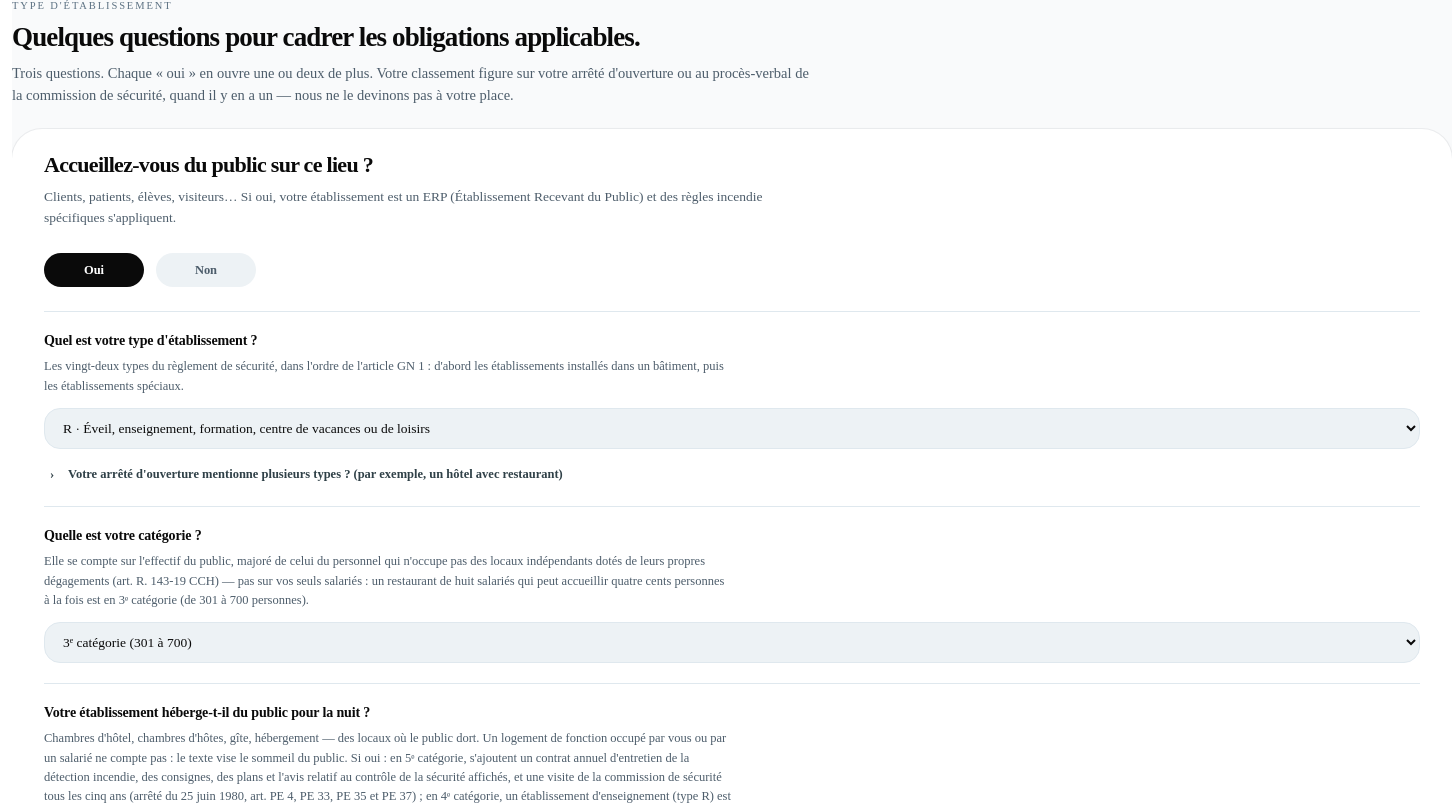
Test: accueil : la question de l'accueil d'enfants › elle disparaît, et sa réponse avec, quand R quitte la saisie
Select "N · Restaurant, débit de boissons" in the dropdown with id "typeErp": (732, 429) [44,408,1420,449]
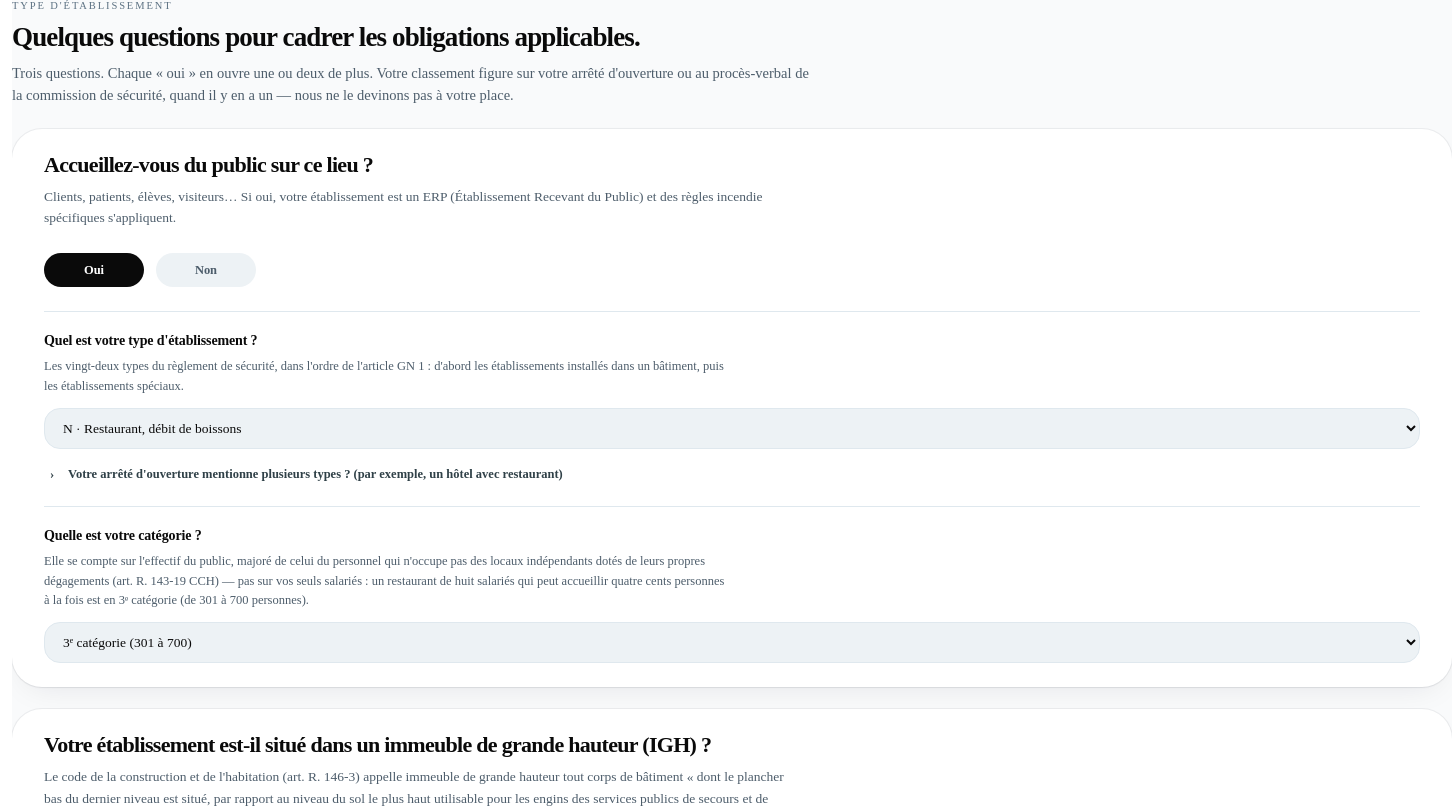
Select "R · Éveil, enseignement, formation, centre de vacances ou de loisirs" in the dropdown with id "typeErp": (732, 429) [44,408,1420,449]
(page scrolled)
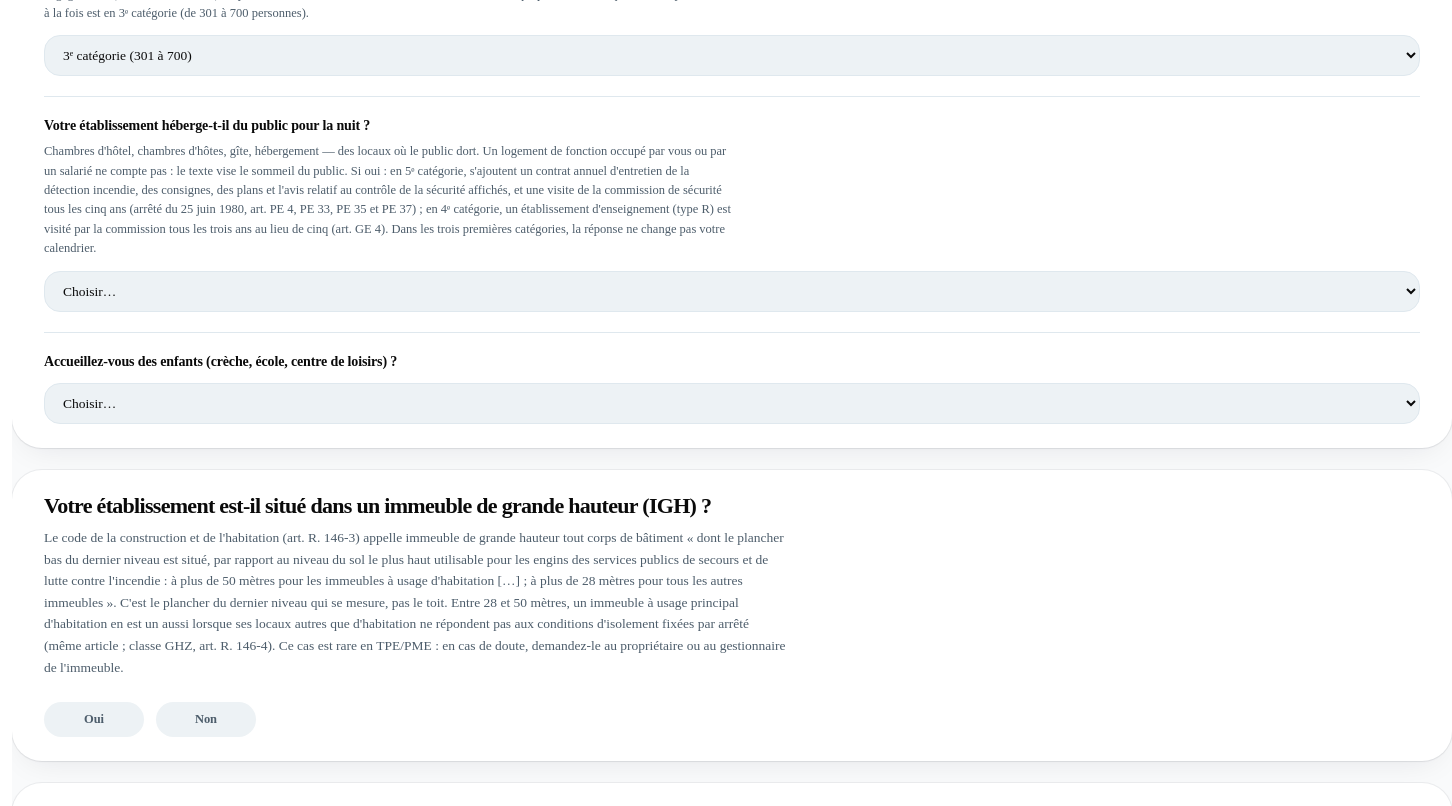
Expected: the dropdown with id "accueilEnfants" shows "Choisir…", [44,383,1420,424]
